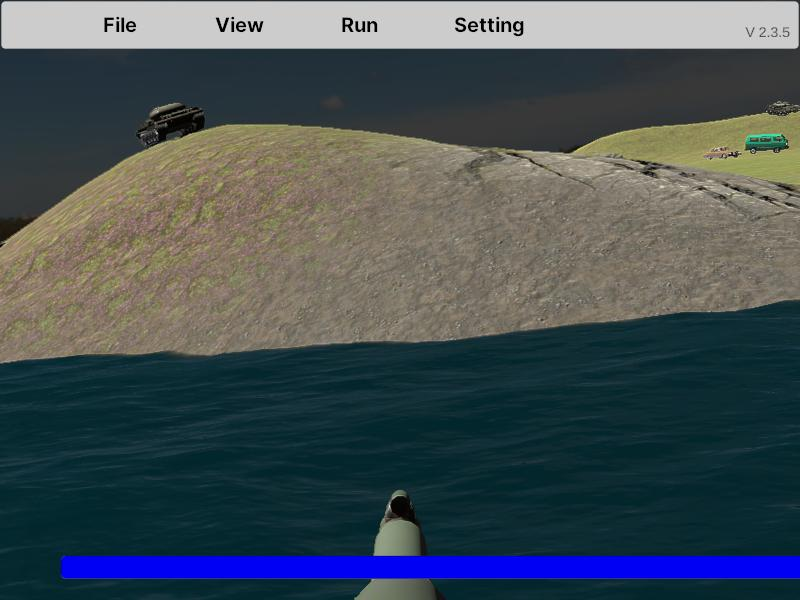Tank: (136, 102, 205, 147), (764, 100, 800, 116)
car: (745, 133, 789, 154), (703, 146, 741, 161)
